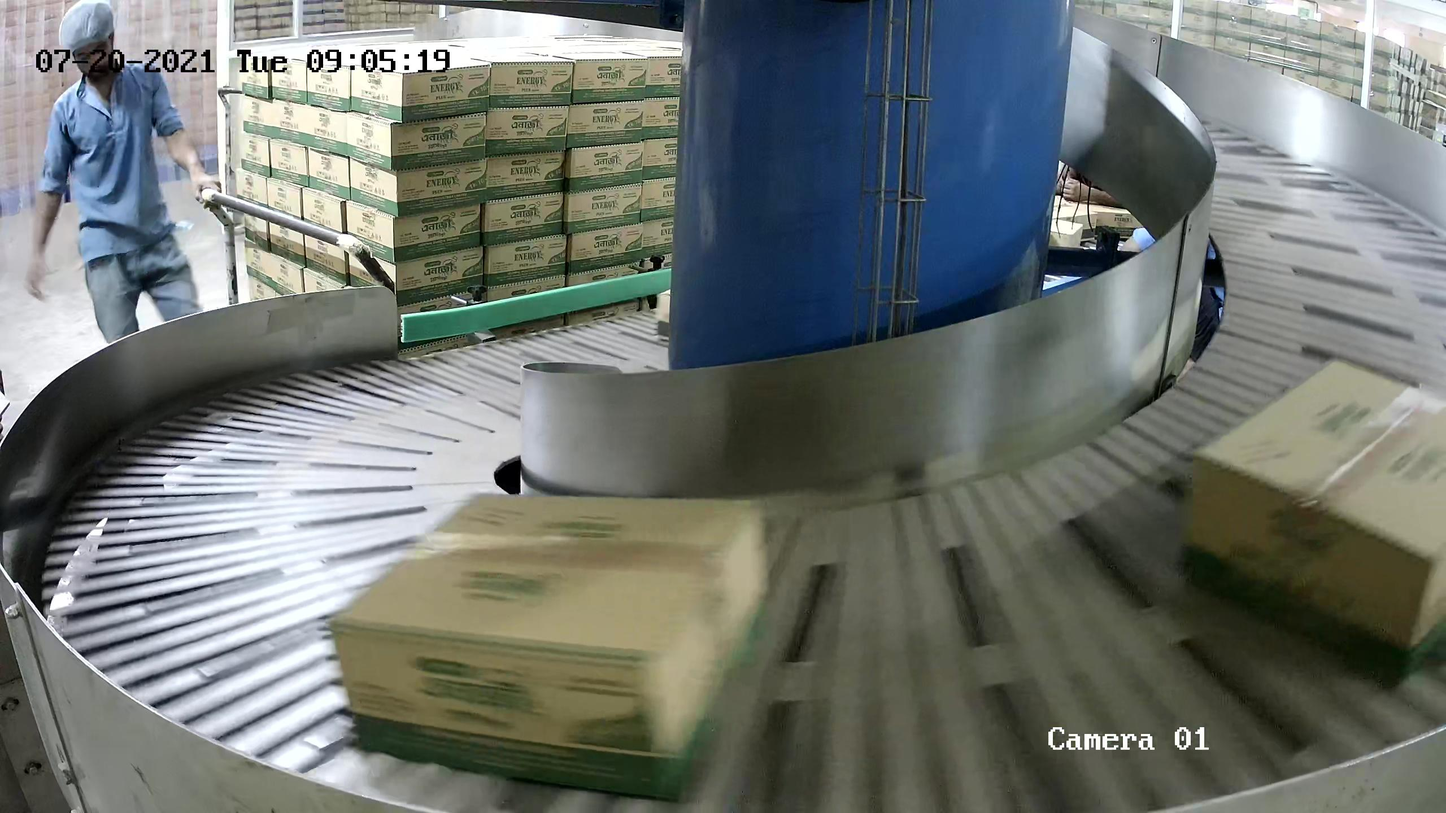Box: (324, 490, 789, 813), (1170, 356, 1446, 696)
